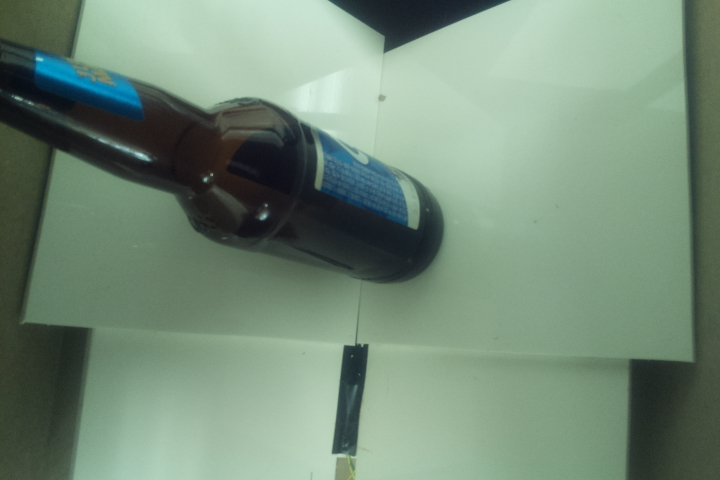makju: (1, 33, 447, 285)
